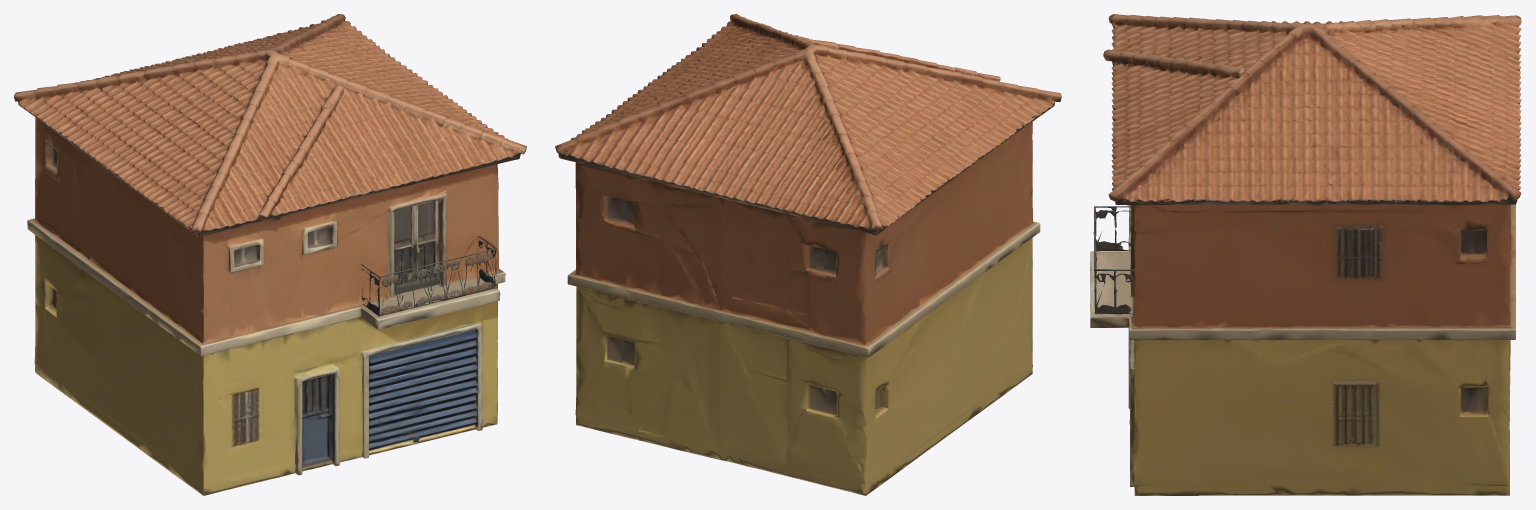
The model's file is predio_sobrado.glb.
3 views of the same model, side by side, from view 1: azimuth 30°, elevation 25°; view 2: azimuth 150°, elevation 25°; view 3: azimuth 270°, elevation 25° (orthographic). The views are drawn at different scales.
Parts seen in each view (by area): view 1: tripo_node_ffc6efef-5a32-40a0-8a91-b0246f9edc43; view 2: tripo_node_ffc6efef-5a32-40a0-8a91-b0246f9edc43; view 3: tripo_node_ffc6efef-5a32-40a0-8a91-b0246f9edc43.
Part boxes in pixels (<box>): tripo_node_ffc6efef-5a32-40a0-8a91-b0246f9edc43: <box>14,14,526,495</box>; tripo_node_ffc6efef-5a32-40a0-8a91-b0246f9edc43: <box>555,14,1061,495</box>; tripo_node_ffc6efef-5a32-40a0-8a91-b0246f9edc43: <box>1090,14,1521,495</box>.
Size of the model in its own units: 1 by 1 by 1.
1 material, 1 textured.
